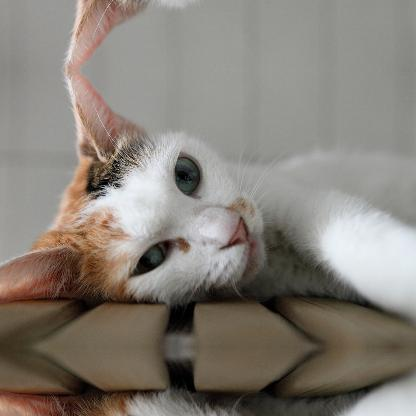Cat: (0, 68, 415, 320), (0, 0, 415, 70)
